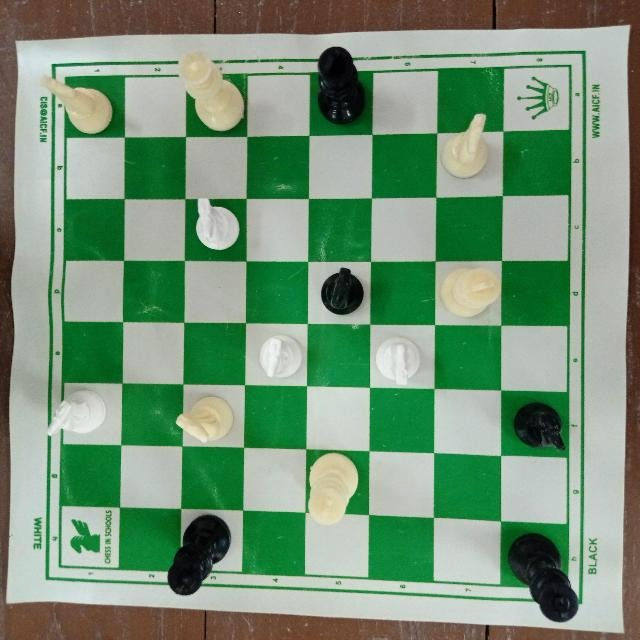black-king: (506, 529, 584, 625), (164, 509, 237, 603), (306, 40, 370, 130)
black-knight: (508, 396, 574, 456), (312, 262, 368, 319)
white-king: (306, 452, 360, 530), (437, 264, 505, 317)
white-knight: (35, 71, 112, 134), (439, 107, 497, 181), (43, 386, 111, 444), (173, 392, 239, 448), (190, 196, 244, 256), (250, 332, 308, 383), (374, 332, 424, 388)
white-queen: (176, 47, 247, 132)
